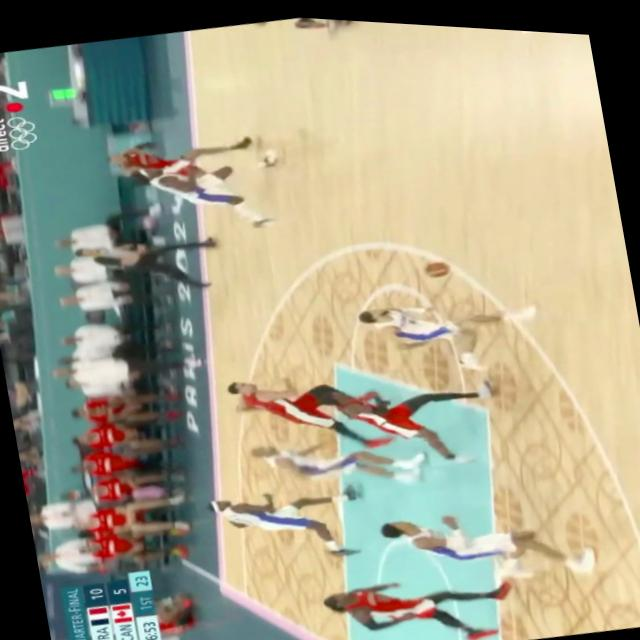ball_handler: (347, 235, 534, 364)
